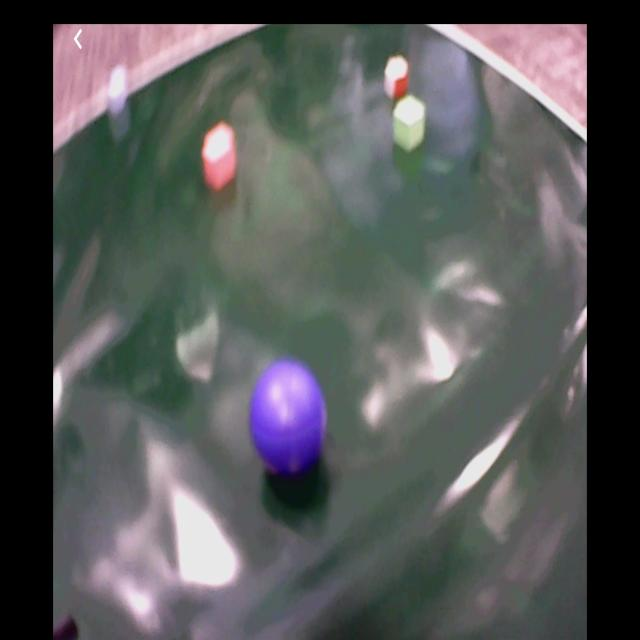ball: (249, 362, 327, 479)
